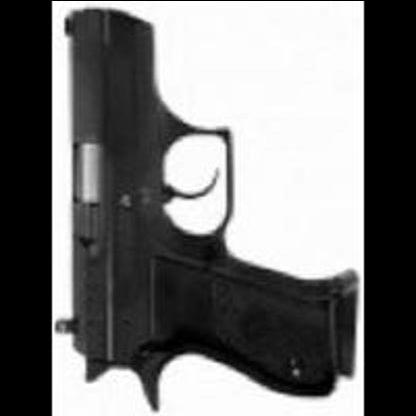weapon: (54, 8, 358, 415)
